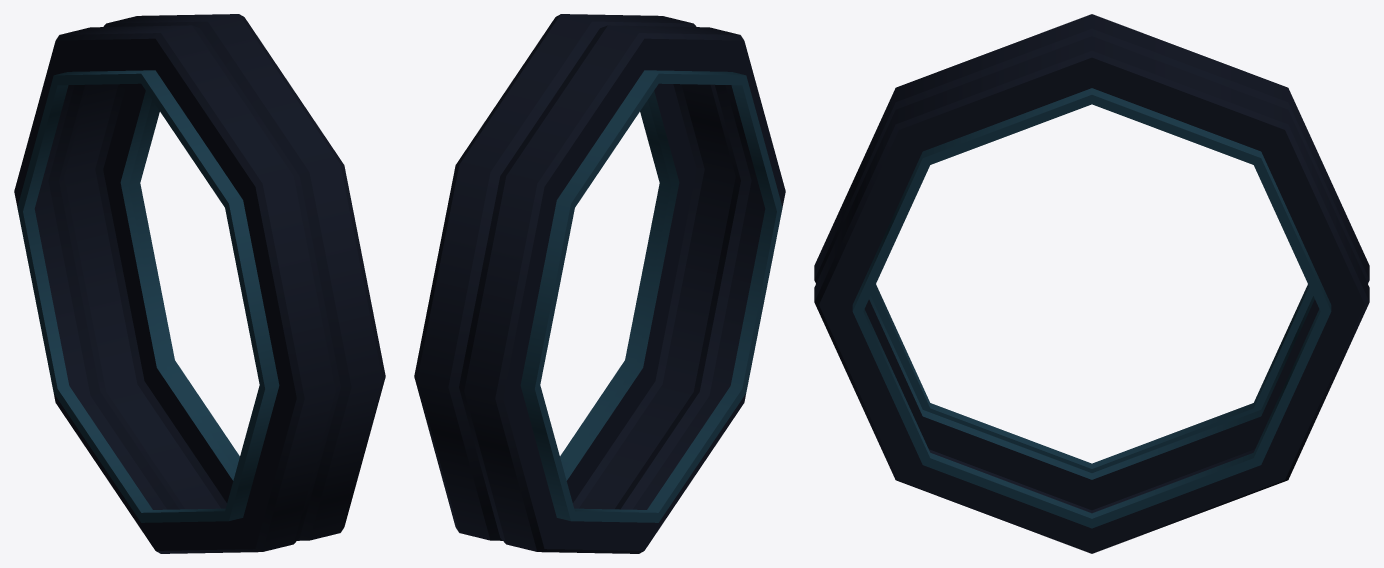
Rendered from PipeSmall_Connector_01_Full.fbx.
3 views of the same model, side by side, from view 1: azimuth 30°, elevation 25°; view 2: azimuth 150°, elevation 25°; view 3: azimuth 270°, elevation 25° (orthographic). The views are drawn at different scales.
Visible parts, largest first — view 1: PipeSmall_Connector_01_Full.001; view 2: PipeSmall_Connector_01_Full.001; view 3: PipeSmall_Connector_01_Full.001.
Part boxes in pixels (x1,y1,x2,y2): PipeSmall_Connector_01_Full.001: (14,14,385,553); PipeSmall_Connector_01_Full.001: (414,14,785,553); PipeSmall_Connector_01_Full.001: (814,14,1369,553).
Size of the model in its own units: 0.0289 by 0.1225 by 0.1225.
